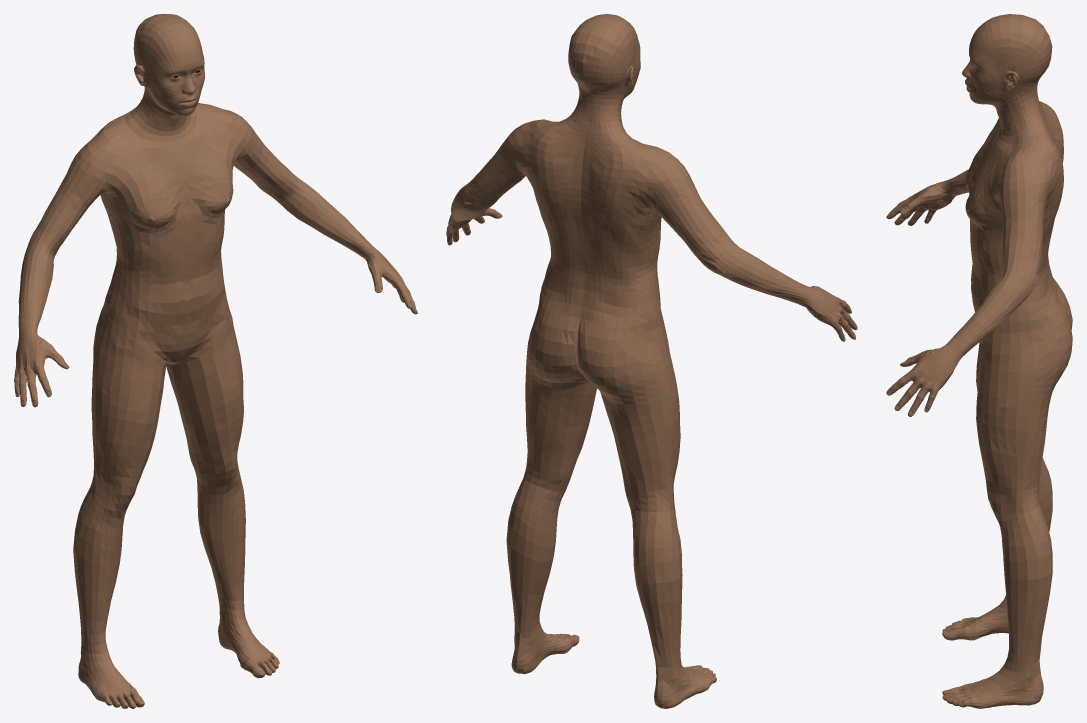
The model's file is human.obj.
The picture shows the model from 3 angles, left to right: view 1: azimuth 30°, elevation 25°; view 2: azimuth 150°, elevation 25°; view 3: azimuth 270°, elevation 25°; orthographic projection.
Parts seen in each view (by area): view 1: base.obj; view 2: base.obj; view 3: base.obj.
Boxes of the visible parts, <box> form: base.obj: <box>14,14,417,708</box>; base.obj: <box>446,14,857,708</box>; base.obj: <box>886,14,1072,708</box>.
Bounding box in the file's own units: 10.52 × 16.59 × 4.3.
2 materials, 1 textured.
